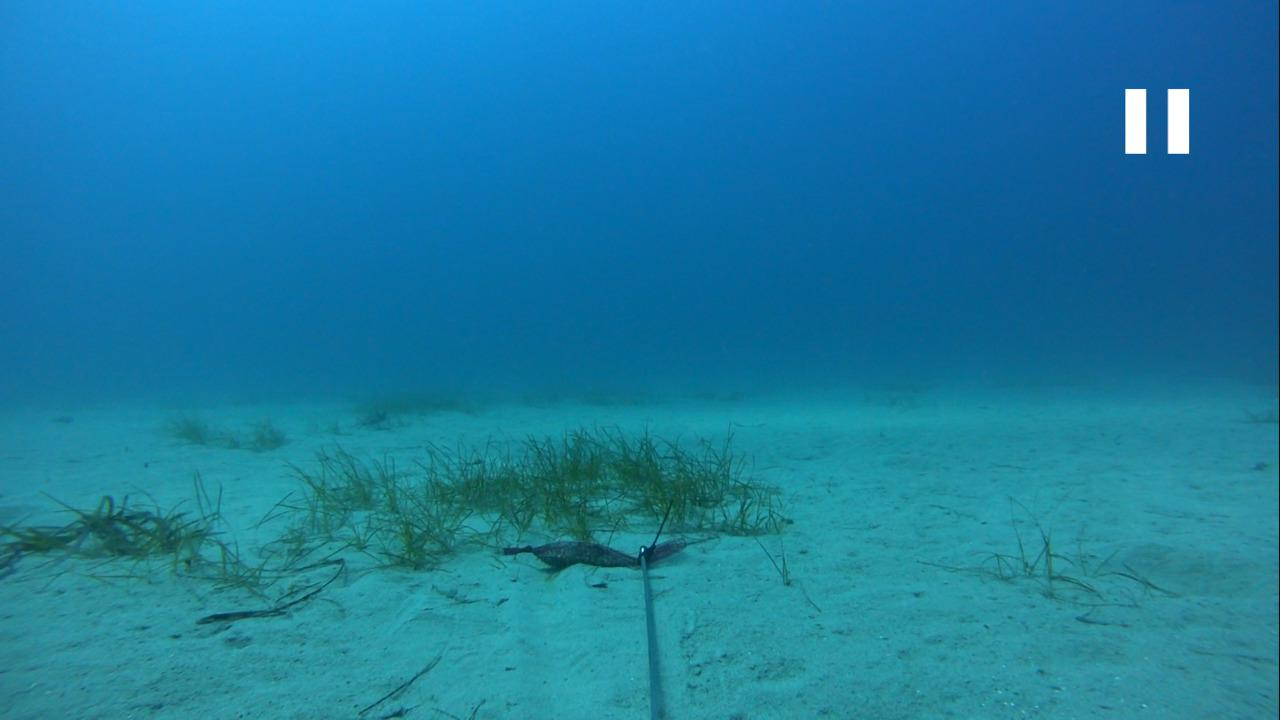dactylopterus: (342, 397, 401, 436)
